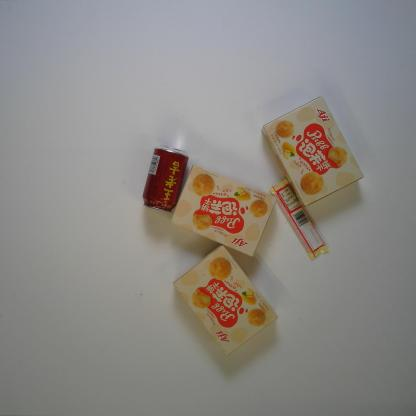Chocolate: (268, 178, 330, 260)
Dessert: (172, 245, 278, 356), (261, 96, 364, 207), (171, 164, 276, 258)
Drink: (141, 145, 190, 213)
